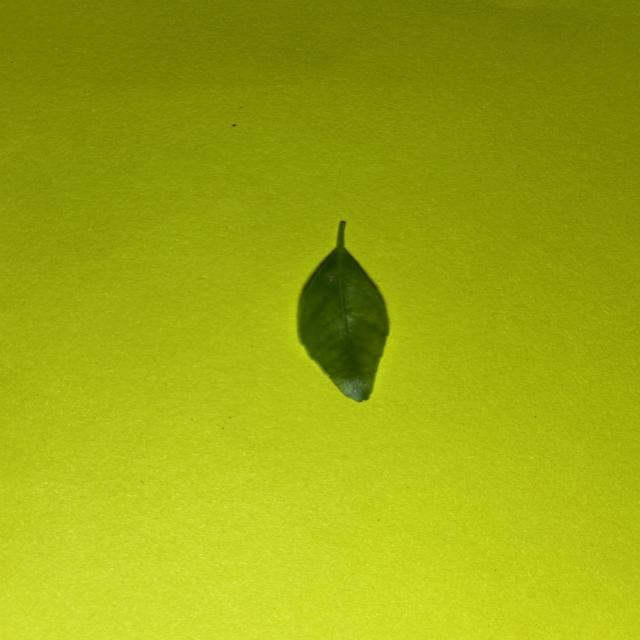greening: (298, 221, 389, 401)
